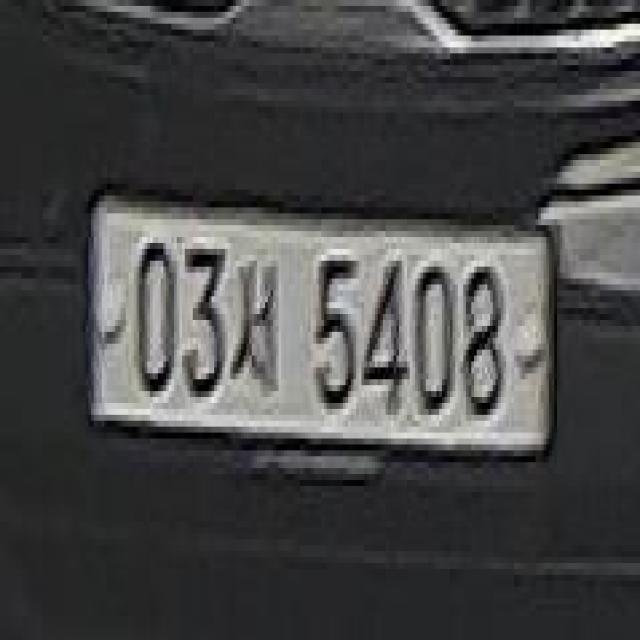illegal_plate: (90, 178, 554, 494)
